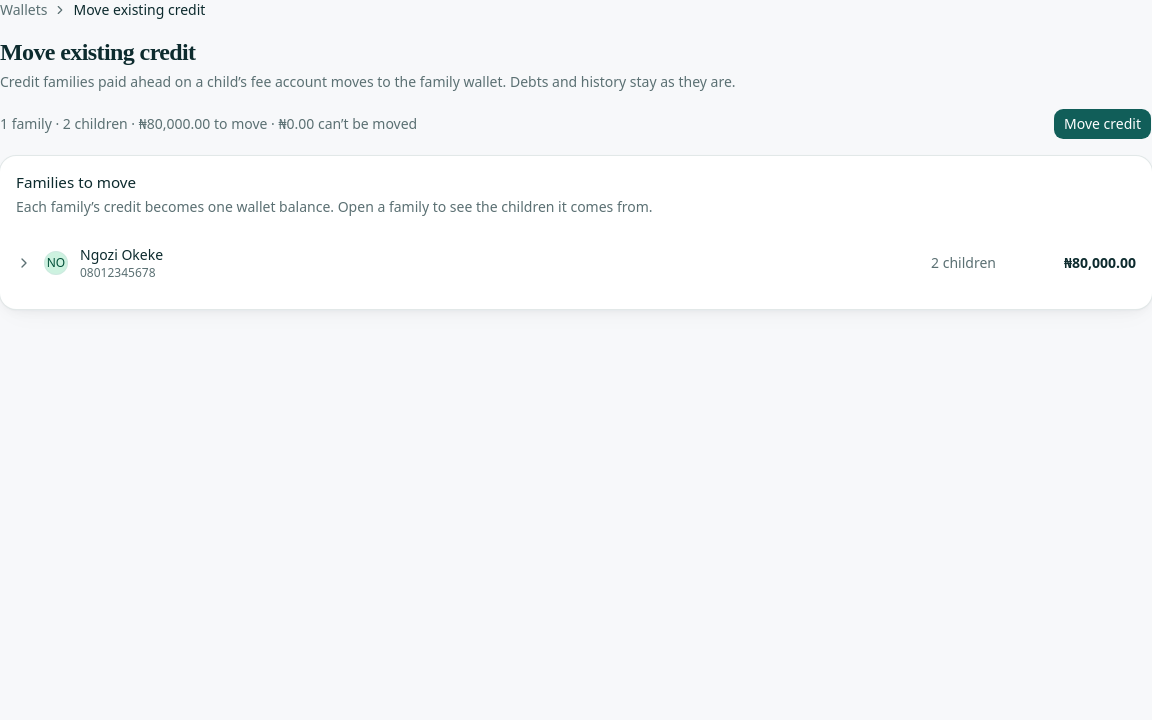
CreditMigrationPage › on a 409 shows the report it carries with a note that the figures changed, without reading it again
This screenshot has width=1152, height=720.
Click the button "Move credit": (1103, 124) [1053,108,1151,140]
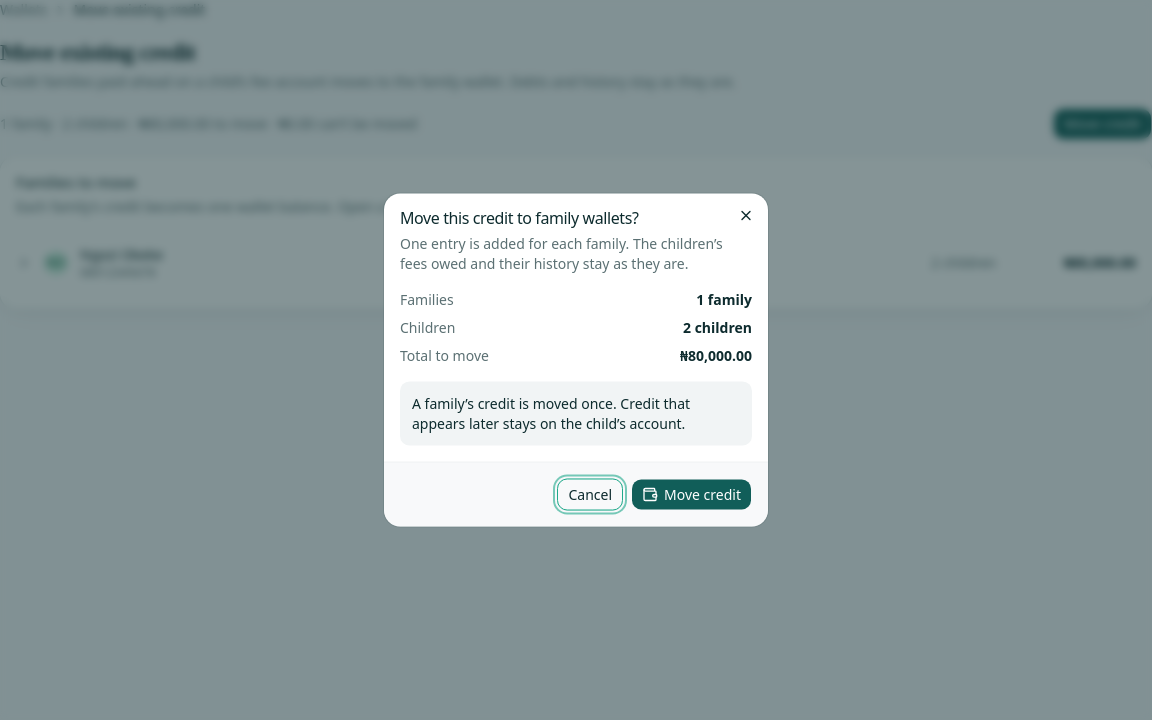
Click the button "Move credit": (692, 494) [631,478,752,510]
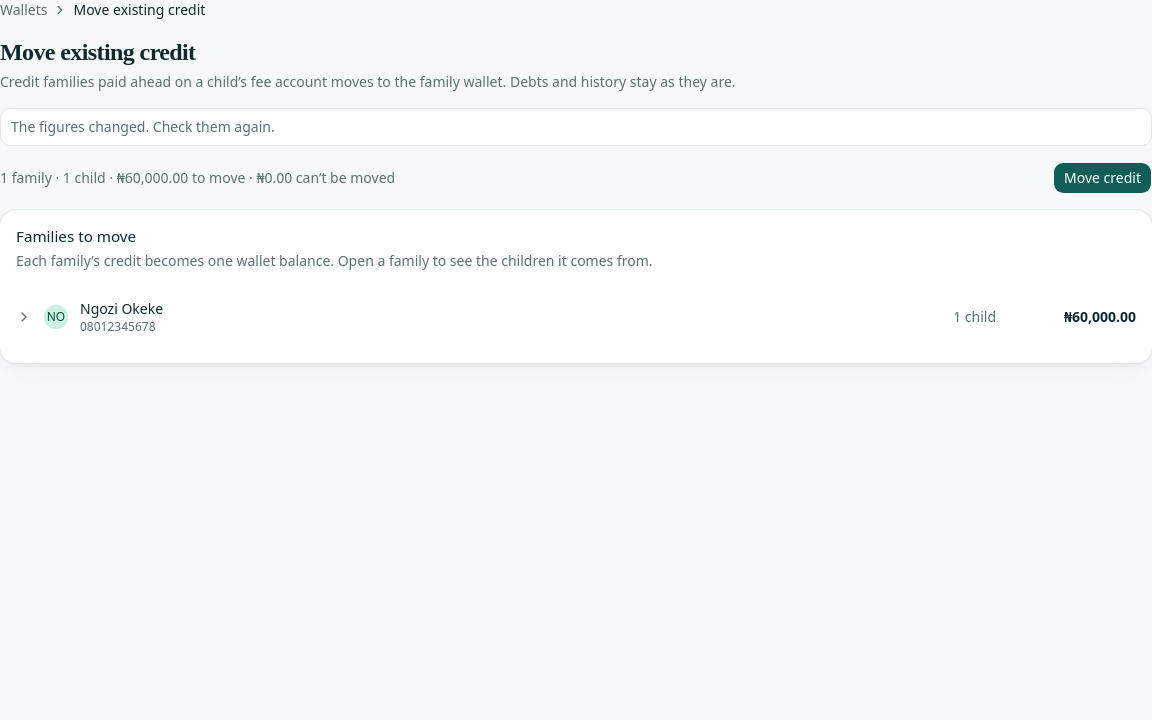
Now the message reads "The figures changed. Check them again.", box [11,117,275,136]
Now the text "1 family · 1 child · ₦60,000.00 to move · ₦0.00 can’t be moved" is shown, box [0,168,395,188]
Now the dialog is gone
